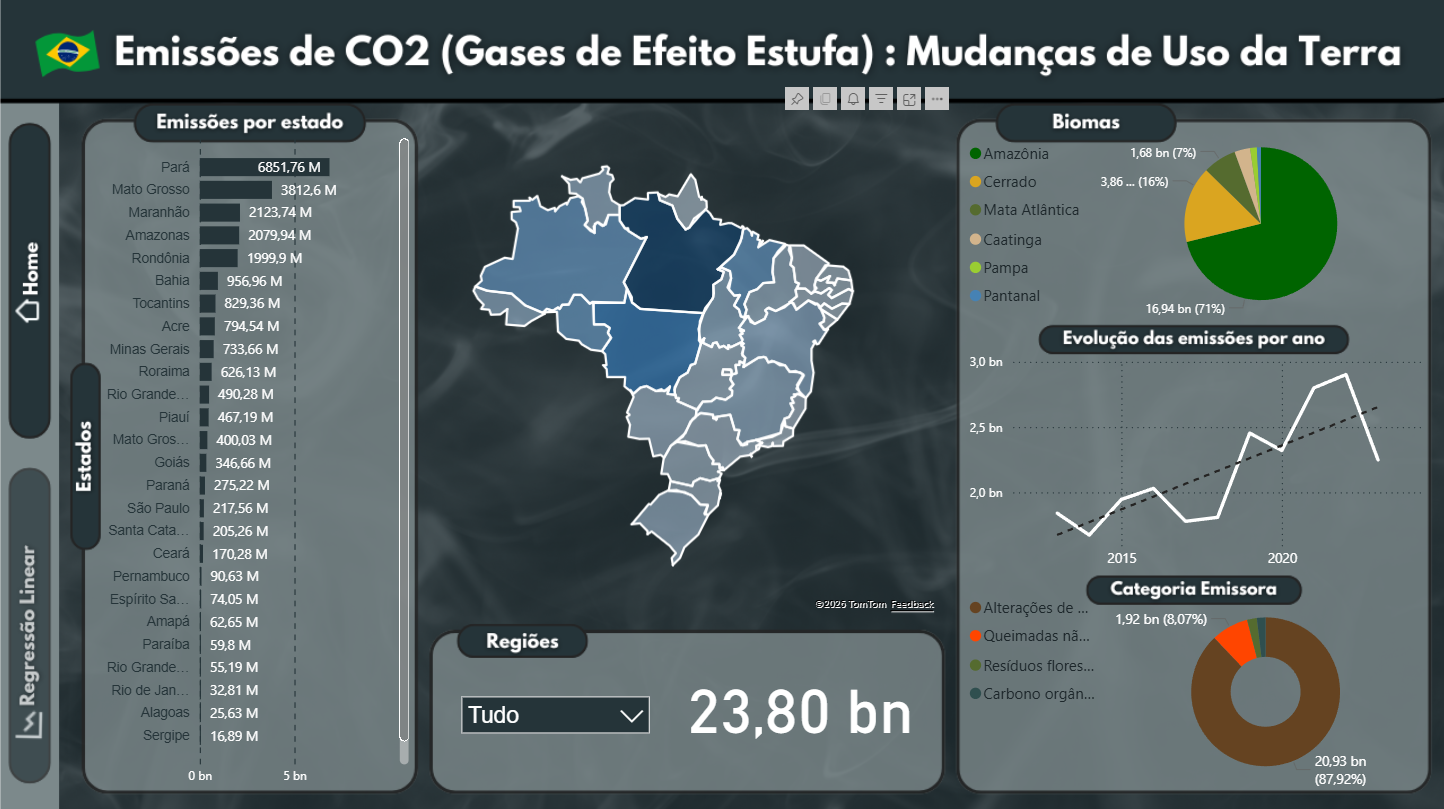

The dashboard page shown, as its layout file describes it:
{"tool":"powerbi","page":{"name":"Home","canvas":[1280,720],"ordinal":0},"visuals":[{"type":"lineChart","title":"Evolução das Emissões por Ano","fields":{"Category":["Dados.Ano"],"Y":["Sum(Dados.Valor_Emissão)"]},"box":[852.8,306,414,205.9],"z":0},{"type":"azureMap","title":"Emissão total de CO₂ por Estado","fields":{"Category":["Dados.Estado"]},"box":[384.8,97.9,456.8,451.1],"z":1000},{"type":"donutChart","fields":{"Category":["Dados.Categoria emissora"],"Y":["Sum(Dados.Valor_Emissão)"]},"box":[852.8,519.8,414,185.6],"z":2000},{"type":"clusteredBarChart","title":"Emissões por Estado","fields":{"Category":["Dados.Estado"],"Y":["Sum(Dados.Valor_Emissão)"]},"box":[77.6,110.2,289.1,595.1],"z":3000},{"type":"pieChart","title":"Emissões por Bioma","fields":{"Category":["Dados.Bioma"],"Y":["Sum(Dados.Valor_Emissão)"]},"box":[852.8,103.5,419.6,189],"z":4000},{"type":"card","fields":{"Values":["Sum(Dados.Valor_Emissão)"]},"box":[585,576,246.4,95.6],"z":5000},{"type":"slicer","fields":{"Values":["Dados.Região"]},"box":[398.2,606.4,186.8,63],"z":6000},{"type":"shape","box":[0,407.4,50.5,289.2],"z":7000}]}

Visuals, with their boxes on the page's 1280x720 design canvas (x1, y1, x2, y2). These are canvas units, not pixel positions in the 1444x809 screenshot, which may show the page scaled, cropped or inside an application window:
"Evolução das Emissões por Ano" lineChart: [853, 306, 1267, 512]
"Emissão total de CO₂ por Estado" azureMap: [385, 98, 842, 549]
donutChart - Dados.Categoria emissora x Sum(Dados.Valor_Emissão): [853, 520, 1267, 705]
"Emissões por Estado" clusteredBarChart: [78, 110, 367, 705]
"Emissões por Bioma" pieChart: [853, 104, 1272, 292]
card - Sum(Dados.Valor_Emissão): [585, 576, 831, 672]
slicer - Dados.Região: [398, 606, 585, 669]
shape: [0, 407, 50, 697]
